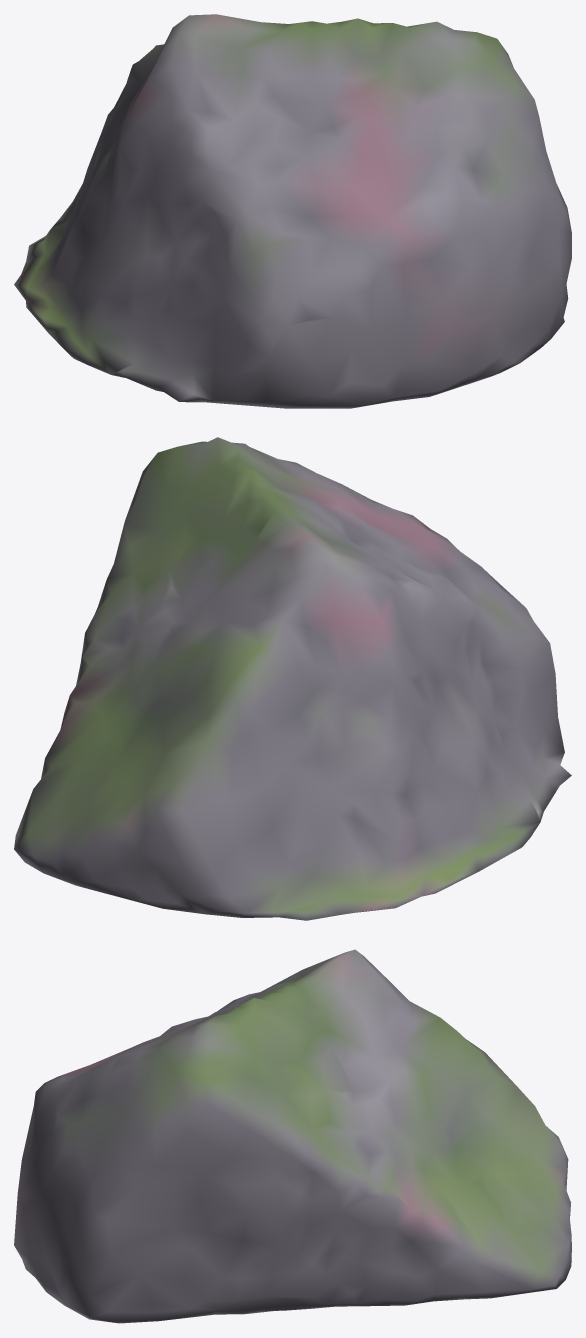
Rendered from boulder-1.glb.
3 views of the same model, one above another, from view 1: azimuth 30°, elevation 25°; view 2: azimuth 150°, elevation 25°; view 3: azimuth 270°, elevation 25° (orthographic). The views are drawn at different scales.
Parts seen in each view (by area): view 1: Boulder_1; view 2: Boulder_1; view 3: Boulder_1.
Boxes of the visible parts, <box> form: Boulder_1: <box>14,14,571,408</box>; Boulder_1: <box>14,437,571,920</box>; Boulder_1: <box>14,949,571,1323</box>.
Size of the model in its own units: 0.7837 by 0.5294 by 0.9718.
